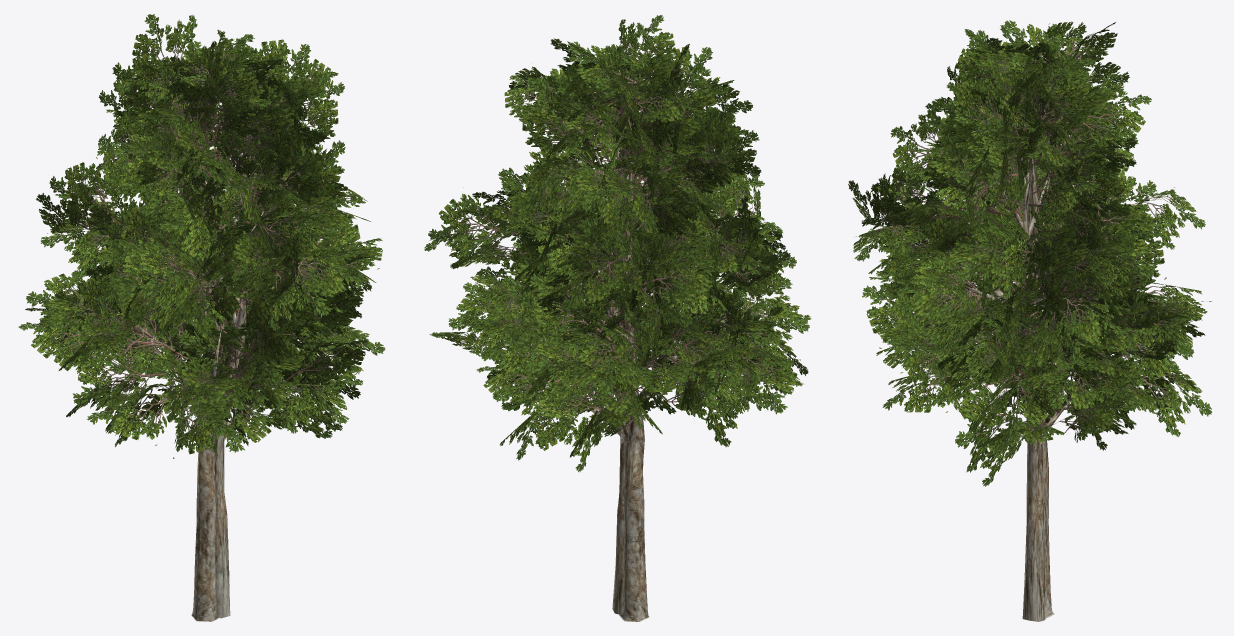
File: trees-supplied-v1.glb
3 renders of one model, left to right at view 1: azimuth 30°, elevation 25°; view 2: azimuth 150°, elevation 25°; view 3: azimuth 270°, elevation 25°, orthographic. The views are drawn at different scales.
Parts seen in each view (by area): view 1: Tree 2-material0-lod0, Tree 1-material0-lod0; view 2: Tree 2-material0-lod0, Tree 1-material0-lod0; view 3: Tree 1-material0-lod0, Tree 2-material0-lod0.
Part boxes in pixels (x1,y1,x2,y2): Tree 2-material0-lod0: [34, 31, 382, 621]; Tree 1-material0-lod0: [18, 14, 385, 618]; Tree 2-material0-lod0: [448, 22, 811, 621]; Tree 1-material0-lod0: [424, 15, 809, 614]; Tree 1-material0-lod0: [848, 20, 1211, 621]; Tree 2-material0-lod0: [853, 21, 1205, 618].
Size of what is drawn, in the model's own units: 0.6278 by 1 by 0.5798.
Materials: 1 (1 with a texture image).
